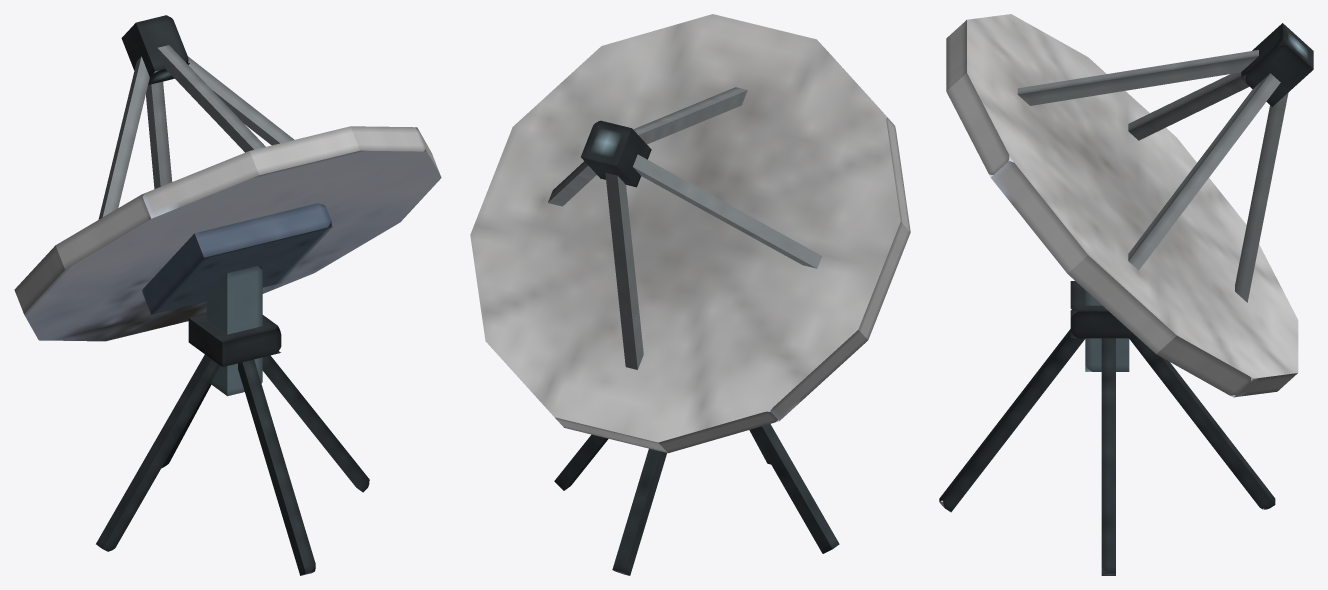
Rendered from satdish.obj.
The picture shows the model from 3 angles, left to right: view 1: azimuth 30°, elevation 25°; view 2: azimuth 150°, elevation 25°; view 3: azimuth 270°, elevation 25°; orthographic projection. The views are drawn at different scales.
Visible parts, largest first — view 1: concentrator, monopod, declination, arm, center_column, center_column_lock, feed; view 2: concentrator, arm, monopod, feed; view 3: concentrator, arm, monopod, feed, center_column_lock, center_column.
Part boxes in pixels (bbox=[...]): concentrator: bbox=[14, 126, 441, 341]; monopod: bbox=[96, 354, 369, 575]; declination: bbox=[142, 203, 332, 314]; arm: bbox=[98, 45, 294, 219]; center_column: bbox=[207, 265, 262, 396]; center_column_lock: bbox=[188, 313, 281, 366]; feed: bbox=[121, 15, 189, 85]; concentrator: bbox=[470, 14, 910, 453]; arm: bbox=[548, 87, 821, 369]; monopod: bbox=[554, 424, 839, 575]; feed: bbox=[581, 120, 651, 187]; concentrator: bbox=[946, 14, 1298, 397]; arm: bbox=[1017, 50, 1288, 302]; monopod: bbox=[939, 329, 1275, 575]; feed: bbox=[1241, 23, 1313, 106]; center_column_lock: bbox=[1070, 281, 1137, 338]; center_column: bbox=[1085, 290, 1129, 371].
Size of the model in its own units: 2 by 2.25 by 1.6.
